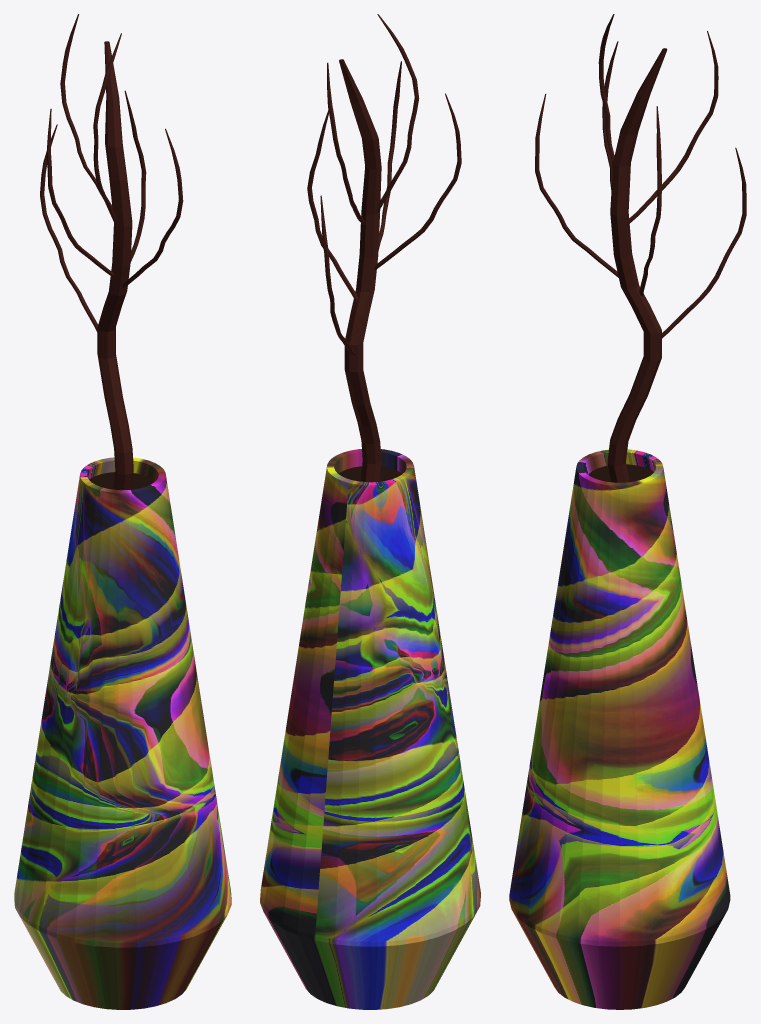
Rendered from vase1.glb.
The picture shows the model from 3 angles, left to right: view 1: azimuth 30°, elevation 25°; view 2: azimuth 150°, elevation 25°; view 3: azimuth 270°, elevation 25°; orthographic projection.
Visible parts, largest first — view 1: Cylinder, Circle; view 2: Cylinder, Circle; view 3: Cylinder, Circle.
Part boxes in pixels (x1,y1,x2,y2): Cylinder: (14, 457, 231, 1009); Circle: (40, 14, 183, 490); Cylinder: (260, 449, 480, 1009); Circle: (307, 14, 461, 482); Cylinder: (509, 449, 730, 1009); Circle: (535, 14, 746, 482).
Bounding box in the file's own units: 2 × 9.64 × 2.15.
Materials: 3 (1 with a texture image).
